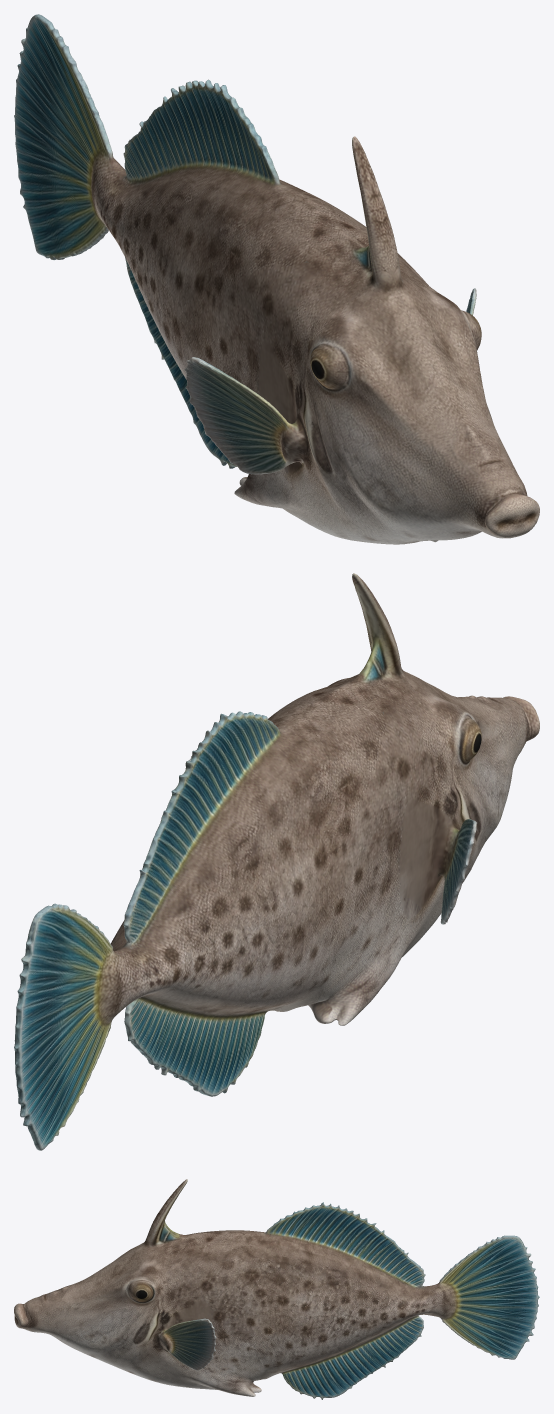
The model's file is umazurahagi.glb.
3 renders of one model, top to bottom at view 1: azimuth 30°, elevation 25°; view 2: azimuth 150°, elevation 25°; view 3: azimuth 270°, elevation 25°, orthographic. The views are drawn at different scales.
Bounding box in the file's own units: 0.6249 × 0.8776 × 1.9.
1 material, 1 textured.
